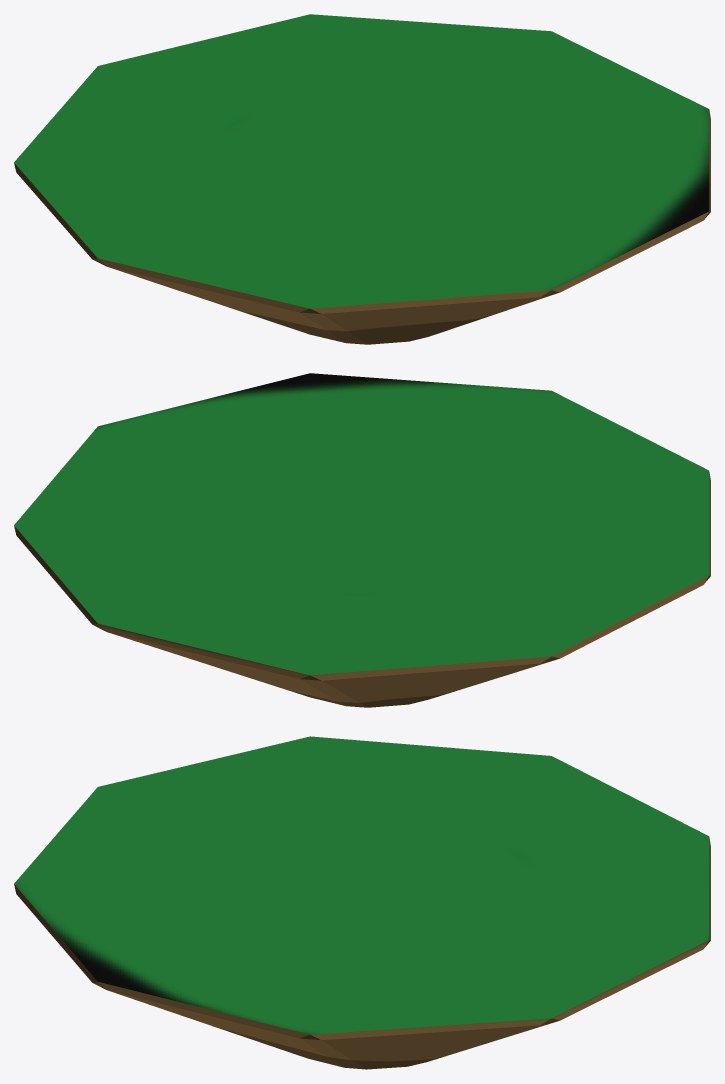
The model's file is floatingplatform.glb.
3 views of the same model, one above another, from view 1: azimuth 30°, elevation 25°; view 2: azimuth 150°, elevation 25°; view 3: azimuth 270°, elevation 25° (orthographic).
Parts seen in each view (by area): view 1: Cone; view 2: Cone; view 3: Cone.
Part boxes in pixels (x1=…): Cone: x1=14, y1=14, x2=710, y2=344; Cone: x1=14, y1=373, x2=710, y2=707; Cone: x1=14, y1=736, x2=710, y2=1069.
Bounding box in the file's own units: 13.28 × 3.17 × 13.11.
1 material, 1 textured.
